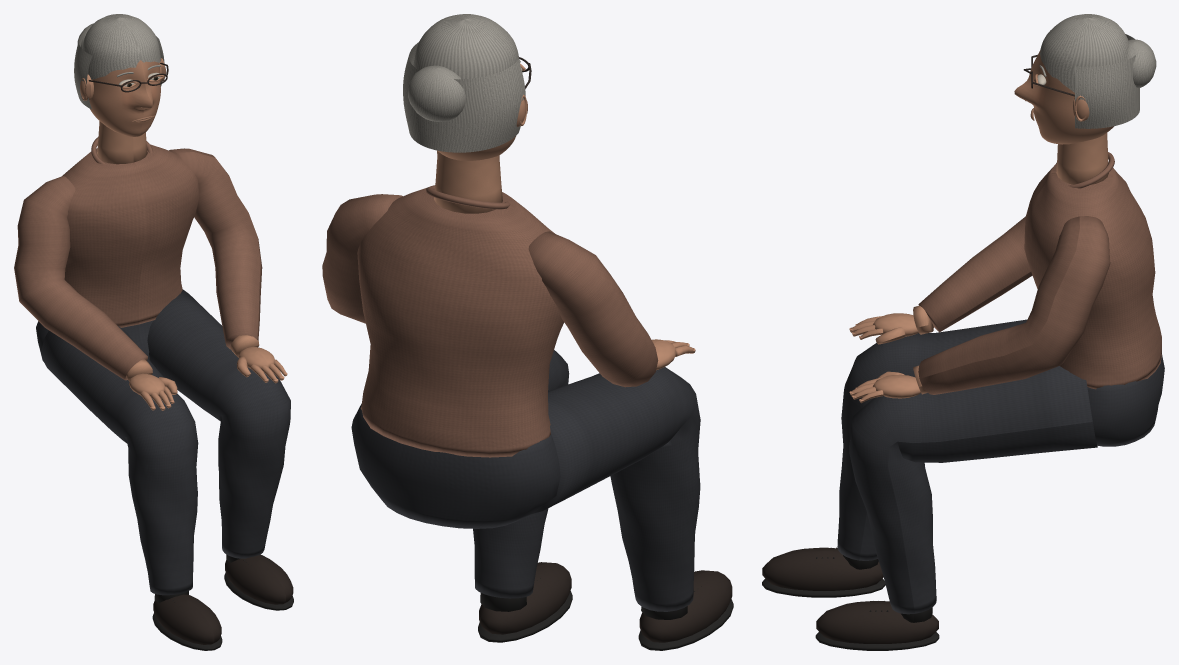
Rendered from 10_Ruth_LOD1.glb.
The picture shows the model from 3 angles, left to right: view 1: azimuth 30°, elevation 25°; view 2: azimuth 150°, elevation 25°; view 3: azimuth 270°, elevation 25°; orthographic projection. The views are drawn at different scales.
Visible parts, largest first — view 1: top, trousers, shoes, skin, hair, face, sole; view 2: top, trousers, hair, shoes, skin, sole, face; view 3: trousers, top, hair, shoes, skin, face, sole.
Boxes of the visible parts, left/top/right/bottom form: top: left=14, top=137, right=262, bottom=380; trousers: left=36, top=289, right=290, bottom=595; shoes: left=88, top=62, right=293, bottom=644; skin: left=80, top=58, right=287, bottom=410; hair: left=74, top=14, right=164, bottom=109; face: left=89, top=60, right=160, bottom=136; sole: left=152, top=554, right=293, bottom=650; top: left=322, top=185, right=658, bottom=457; trousers: left=351, top=350, right=700, bottom=611; hair: left=403, top=14, right=525, bottom=152; shoes: left=479, top=57, right=732, bottom=642; skin: left=434, top=63, right=695, bottom=370; sole: left=478, top=578, right=733, bottom=650; face: left=437, top=136, right=515, bottom=160; trousers: left=837, top=319, right=1164, bottom=614; top: left=918, top=152, right=1161, bottom=394; hair: left=1039, top=14, right=1156, bottom=128; shoes: left=762, top=54, right=1074, bottom=643; skin: left=850, top=74, right=1108, bottom=403; face: left=1014, top=49, right=1114, bottom=144; sole: left=762, top=547, right=939, bottom=650.
Bounding box in the file's own units: 0.6122 × 1.3 × 0.7874.
Materials: 12 (12 with a texture image).
